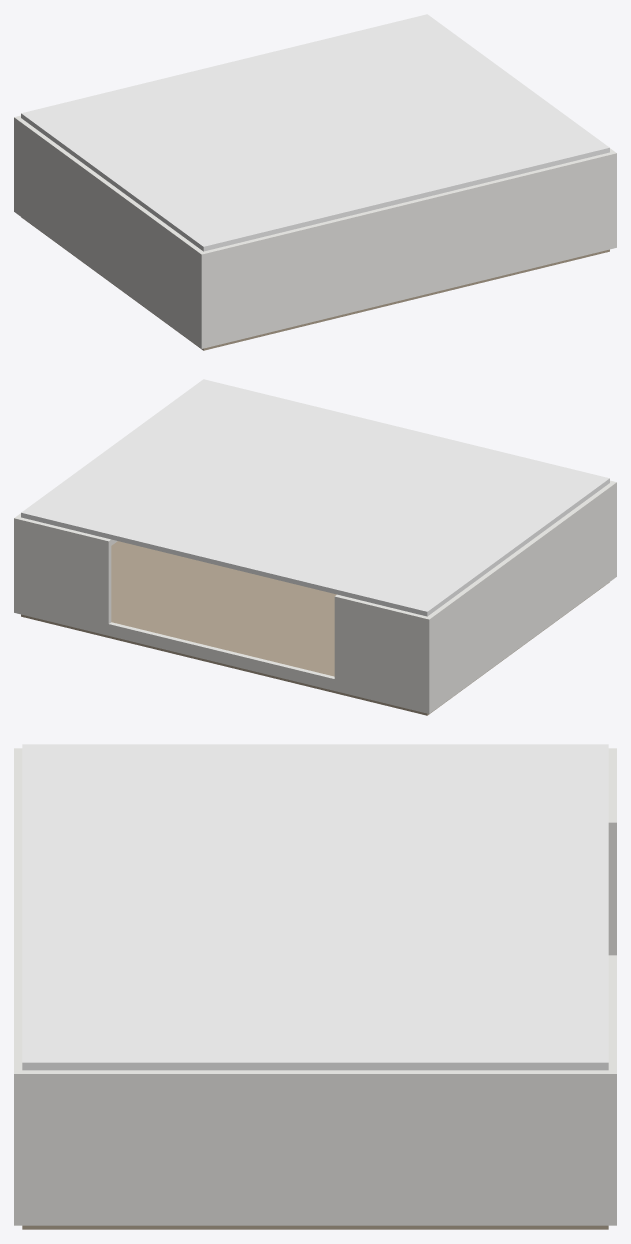
File: living_room.glb
3 views of the same model, one above another, from view 1: azimuth 30°, elevation 25°; view 2: azimuth 150°, elevation 25°; view 3: azimuth 270°, elevation 25° (orthographic). The views are drawn at different scales.
Parts seen in each view (by area): view 1: LivingRoom; view 2: LivingRoom; view 3: LivingRoom.
Boxes of the visible parts, bbox=[...] form: LivingRoom: bbox=[14, 14, 616, 350]; LivingRoom: bbox=[14, 379, 616, 715]; LivingRoom: bbox=[14, 744, 616, 1229].
Size of the model in its own units: 11.04 by 2.64 by 8.64.
